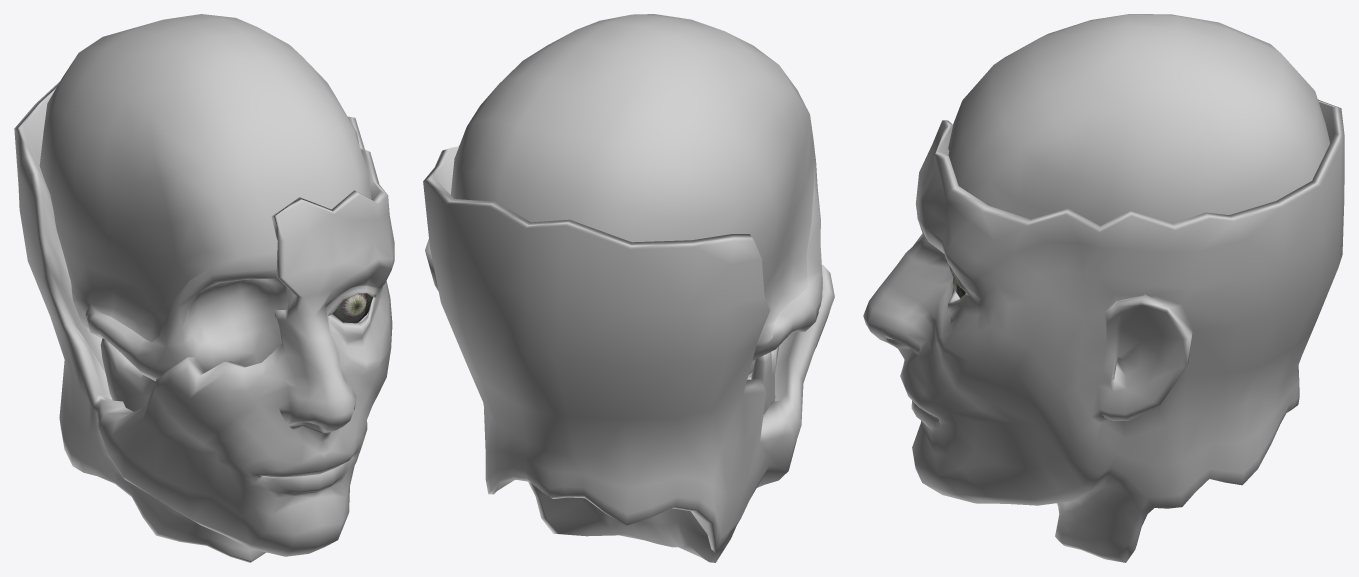
File: Head_Only_02.fbx
3 views of the same model, side by side, from view 1: azimuth 30°, elevation 25°; view 2: azimuth 150°, elevation 25°; view 3: azimuth 270°, elevation 25° (orthographic). The views are drawn at different scales.
Parts seen in each view (by area): view 1: Head_Only_02; view 2: Head_Only_02; view 3: Head_Only_02.
Part boxes in pixels (bbox=[...]): Head_Only_02: bbox=[14, 14, 394, 562]; Head_Only_02: bbox=[423, 14, 834, 562]; Head_Only_02: bbox=[863, 14, 1344, 562].
Size of the model in its own units: 16.69 by 25.59 by 21.73.
